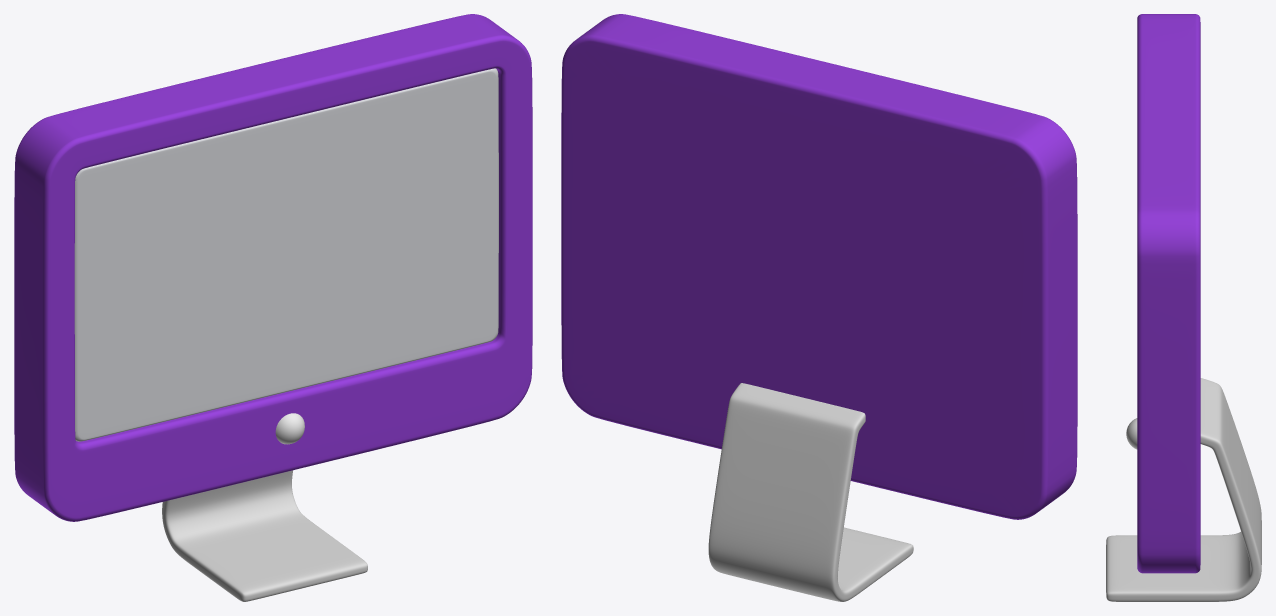
The model's file is computer.fbx.
3 views of the same model, side by side, from view 1: azimuth 30°, elevation 25°; view 2: azimuth 150°, elevation 25°; view 3: azimuth 270°, elevation 25° (orthographic). The views are drawn at different scales.
Parts seen in each view (by area): view 1: Monitor; view 2: Monitor; view 3: Monitor.
Boxes of the visible parts, box(x1,y1,x2,y2) form: Monitor: box(14, 14, 532, 601); Monitor: box(561, 14, 1077, 601); Monitor: box(1106, 14, 1261, 601).
Size of the model in its own units: 188 by 180 by 54.95.
